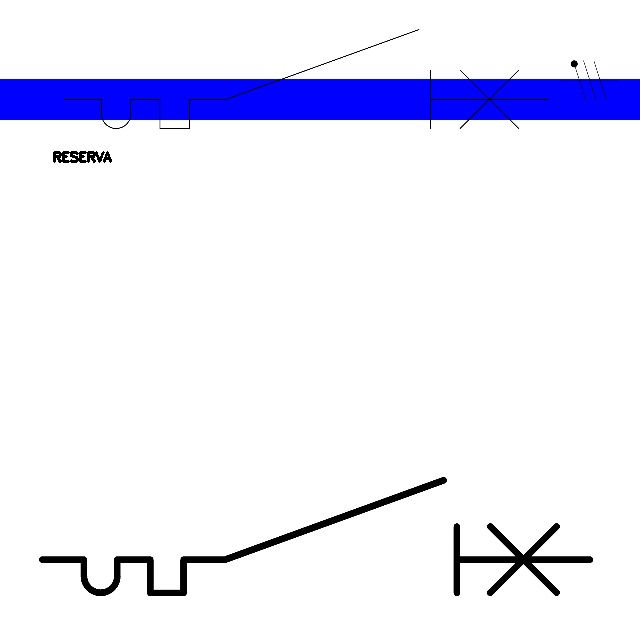interruptor_termomagnetico: (28, 466, 604, 607), (52, 17, 561, 141)
